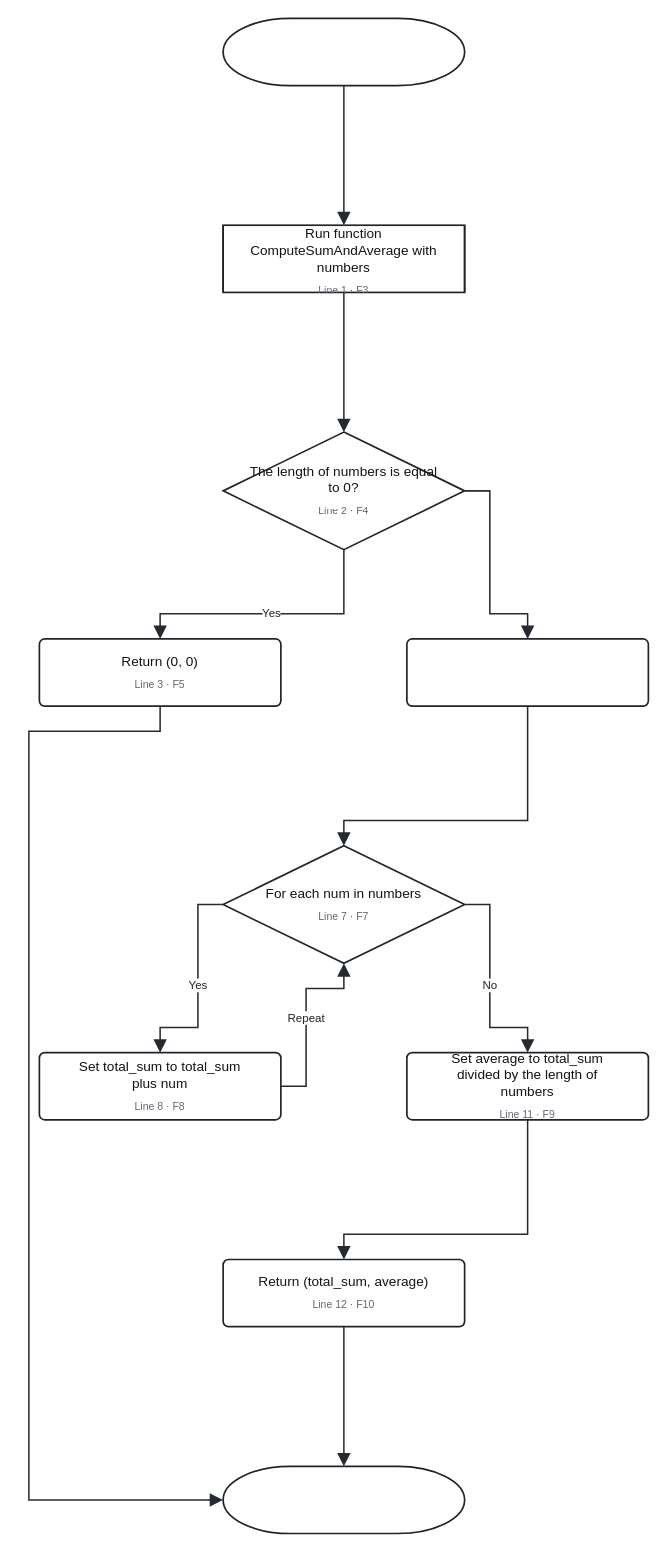
The diagram is 668 pixels wide and 1553 high, and some of its shapes have lost their labels. The box of each missing label's shape, as (x1, y1, x2, y2) in pixels:
End Line 1 · F2: (222, 1465, 465, 1534)
Set total_sum to 0 Line 6 · F6: (406, 638, 649, 706)
Start Line 1 · F1: (222, 17, 465, 86)
